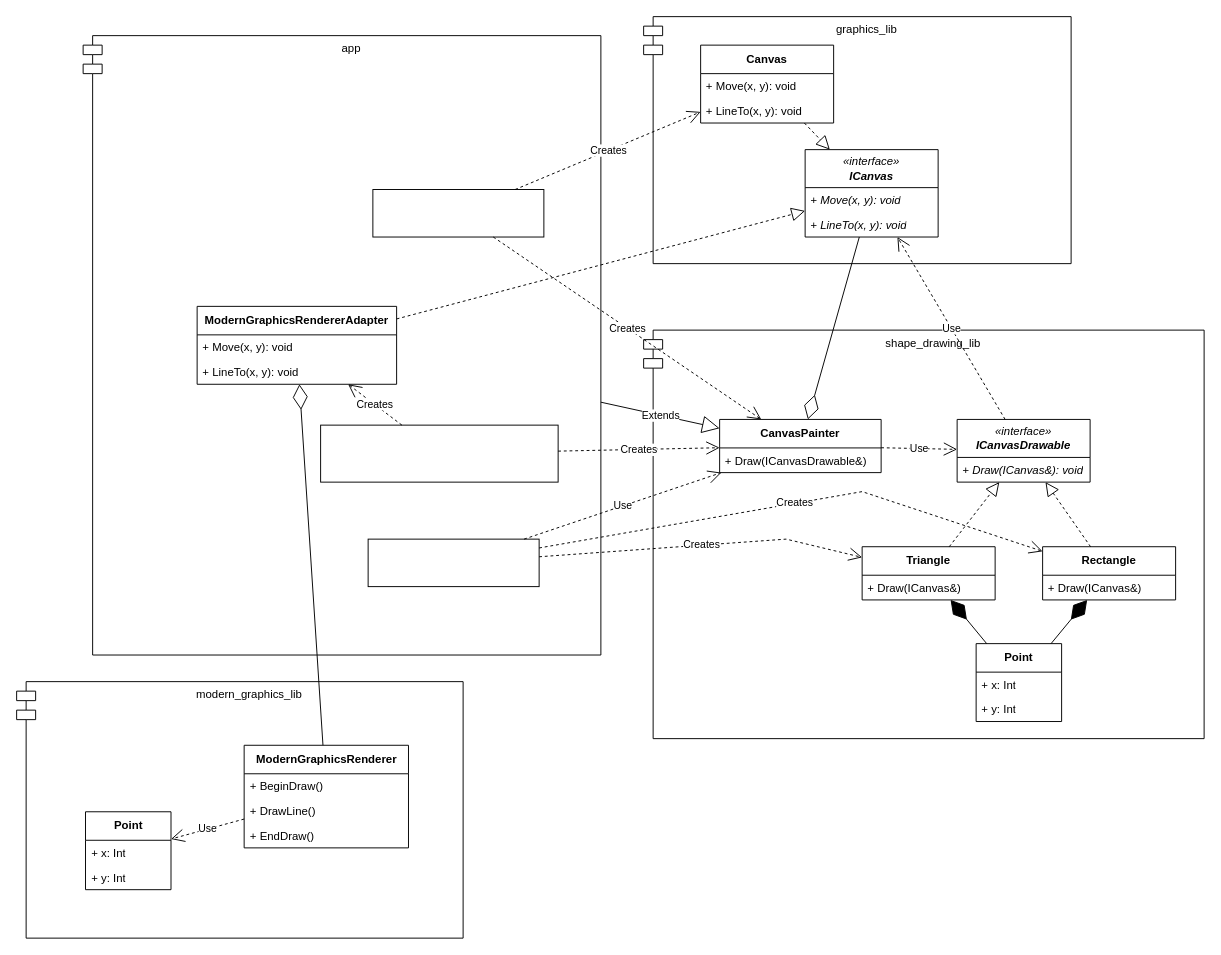
Some shapes in this 1221 by 955 pixel diagram are drawn without their labels. Each missing label, with the centre of its shape:
PaintPicture: point 453,562
PaintPictureOnCanvas: point 458,213
PaintPictureOnModernGraphicsRenderer: point 439,453
